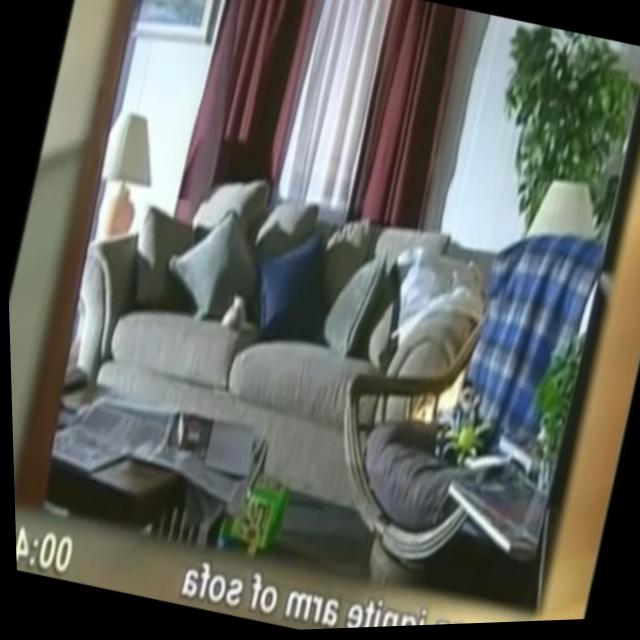fire: (405, 353, 470, 436)
